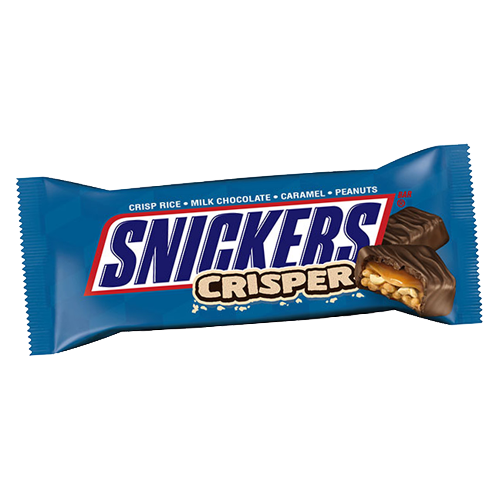snickers: (97, 202, 382, 287)
